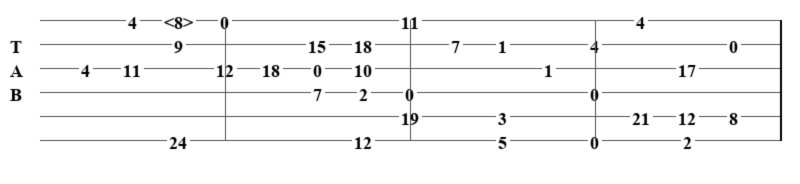0: (220, 12, 233, 28), (313, 60, 326, 76), (405, 84, 418, 100), (590, 132, 603, 148), (590, 84, 603, 100), (729, 36, 742, 52)
1: (498, 36, 511, 52), (544, 60, 557, 76)
10: (354, 60, 376, 76)
11: (123, 60, 145, 76), (401, 12, 423, 28)
12: (216, 60, 238, 76), (354, 132, 376, 148), (678, 108, 700, 124)
15: (308, 36, 330, 52)
17: (678, 60, 700, 76)
18: (262, 60, 284, 76), (354, 36, 376, 52)
19: (401, 108, 423, 124)
2: (359, 84, 372, 100), (683, 132, 696, 148)
21: (632, 108, 654, 124)
24: (169, 132, 191, 148)
3: (498, 108, 511, 124)
4: (81, 60, 94, 76), (128, 12, 141, 28), (590, 36, 603, 52), (636, 12, 649, 28)
5: (498, 132, 511, 148)
7: (313, 84, 326, 100), (451, 36, 464, 52)
8: (729, 108, 742, 124)
9: (174, 36, 187, 52)
harmonic: (164, 12, 197, 28)
